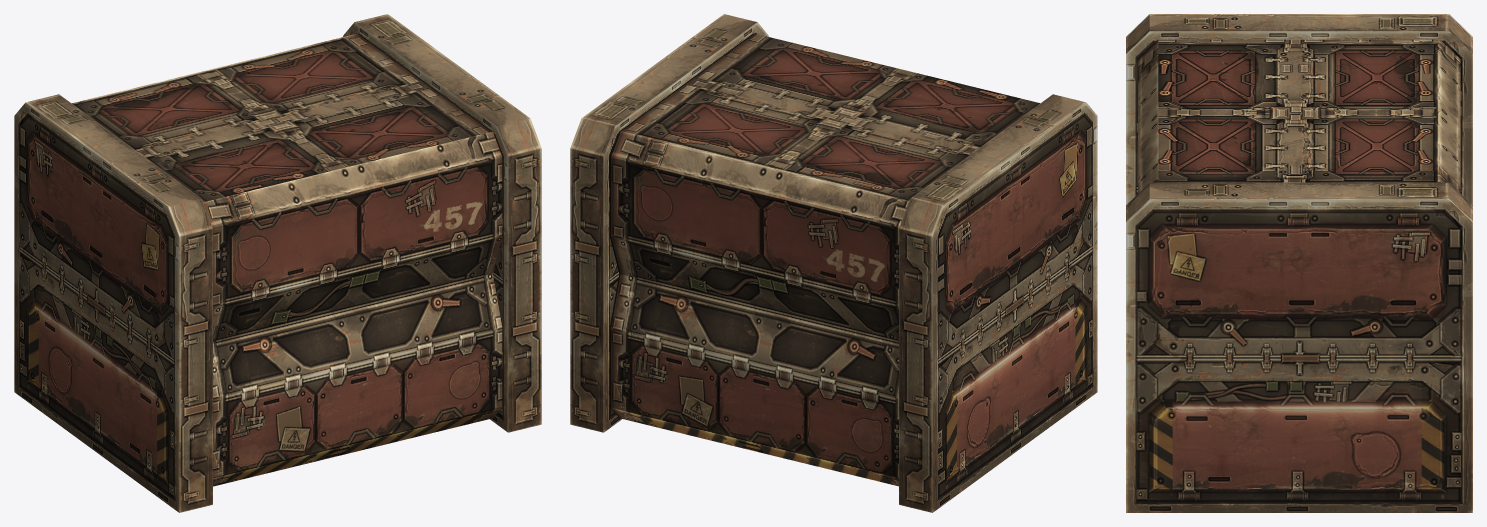
The model's file is cover_02.FBX.
3 renders of one model, left to right at view 1: azimuth 30°, elevation 25°; view 2: azimuth 150°, elevation 25°; view 3: azimuth 270°, elevation 25°, orthographic. The views are drawn at different scales.
Visible parts, largest first — view 1: cover_02_mesh; view 2: cover_02_mesh; view 3: cover_02_mesh.
Part boxes in pixels (x1,y1,x2,y2): cover_02_mesh: [14, 14, 541, 512]; cover_02_mesh: [570, 14, 1097, 512]; cover_02_mesh: [1126, 14, 1472, 512].
Size of the model in its own units: 363 by 285 by 286.
1 material, 1 textured.
